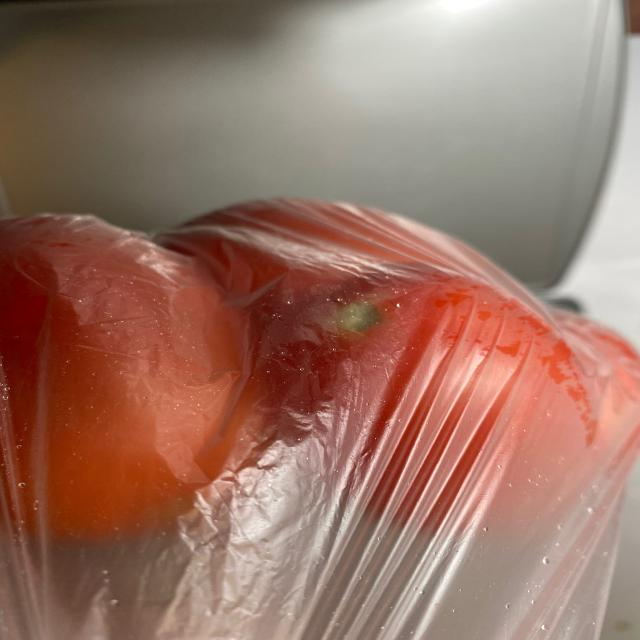tomato: (6, 206, 622, 551)
